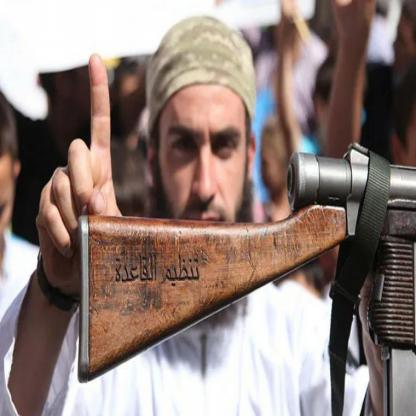rifle: (76, 141, 416, 385)
